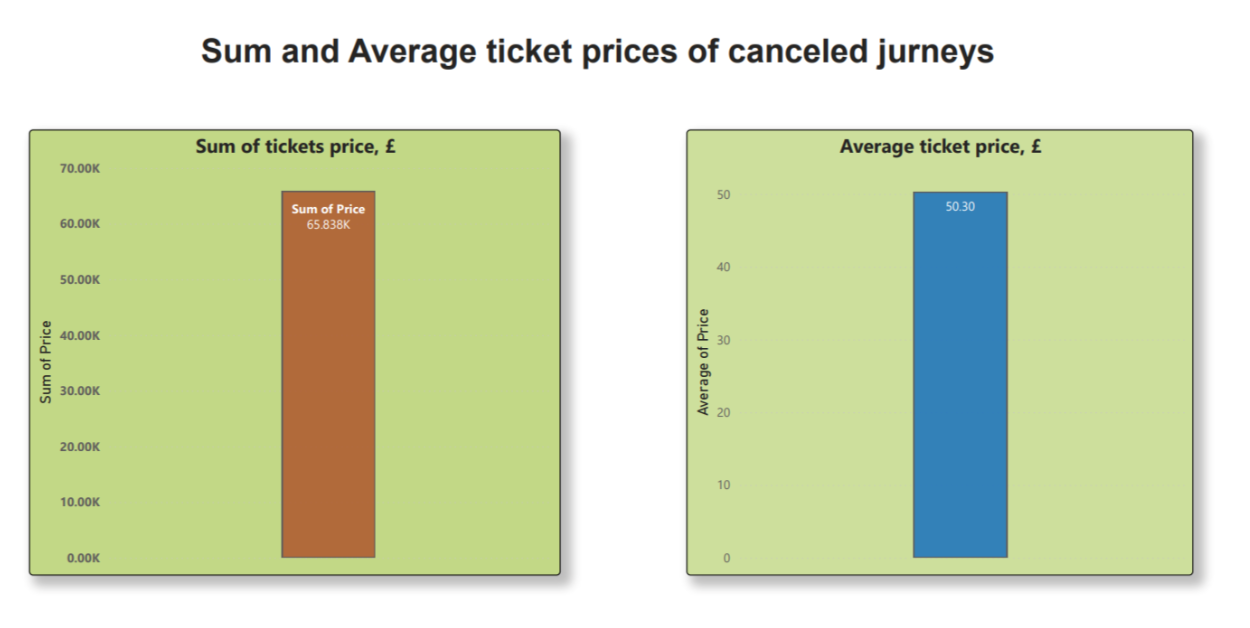

This screenshot's page, from the dashboard's own definition file:
{"tool":"powerbi","page":{"name":"ticket prices canceled jurneys","canvas":[1280,720],"ordinal":3},"visuals":[{"type":"clusteredColumnChart","title":"Sum of tickets price, £   ","fields":{"Y":["Sum(ticket_prices.Price)"]},"box":[82.3,142.7,516,433.6],"z":0},{"type":"clusteredColumnChart","title":"Average ticket price, £","fields":{"Y":["Avg(ticket_prices.Price)"]},"box":[720.4,142.7,491.3,433.6],"z":1000},{"type":"textbox","box":[244.3,43.9,919.4,75.5],"z":2000}]}

Visuals, with their boxes on the page's 1280x720 design canvas (x1, y1, x2, y2). These are canvas units, not pixel positions in the 1250x628 screenshot, which may show the page scaled, cropped or inside an application window:
"Sum of tickets price, £   " clusteredColumnChart: detection(82, 143, 598, 576)
"Average ticket price, £" clusteredColumnChart: detection(720, 143, 1212, 576)
textbox: detection(244, 44, 1164, 119)
